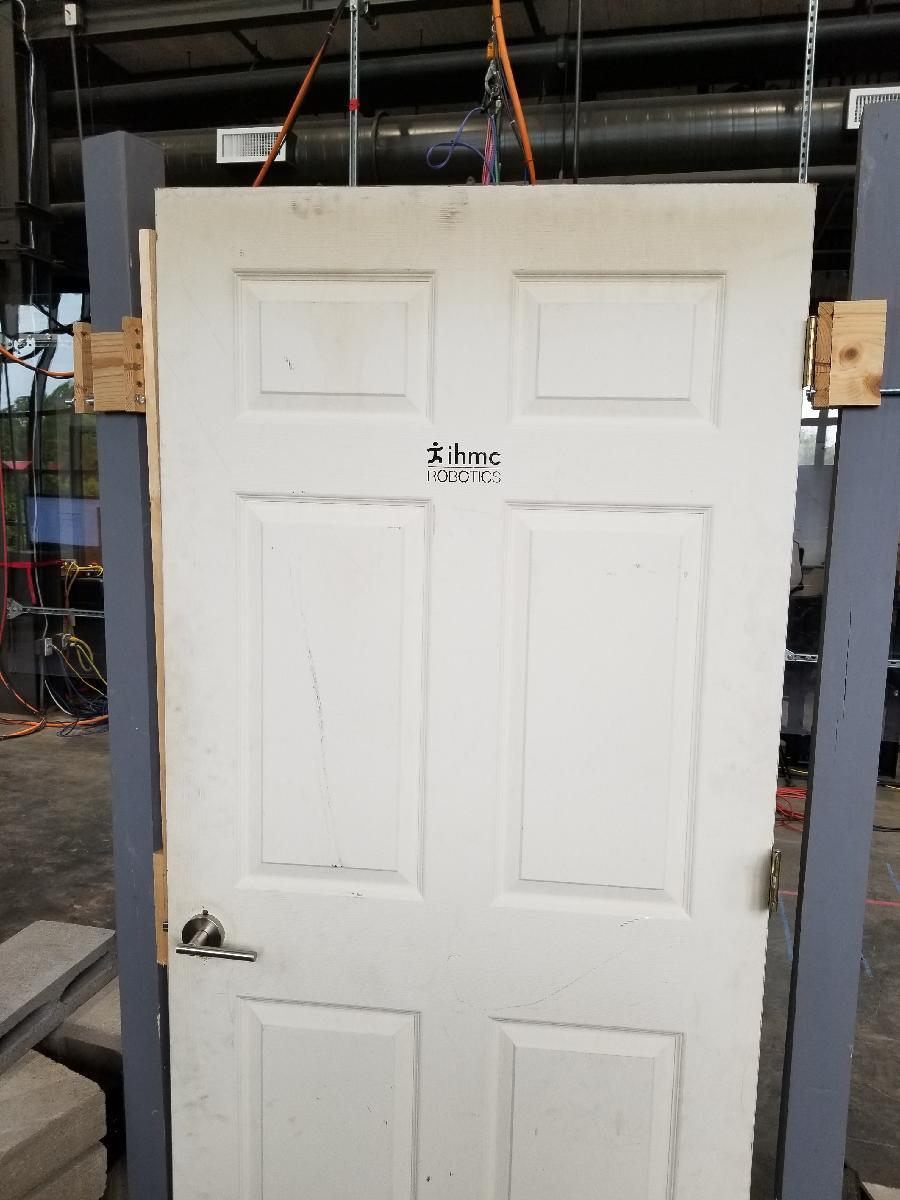door: (169, 188, 762, 1200)
handle: (176, 905, 266, 972)
